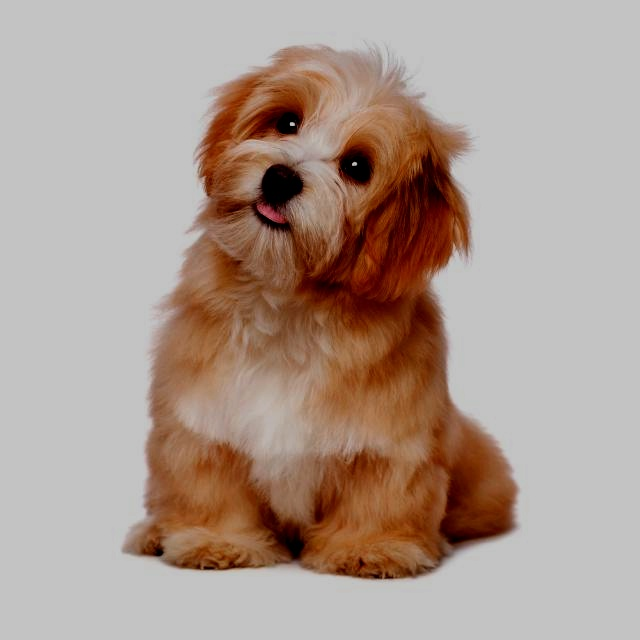dog: (172, 25, 488, 312)
